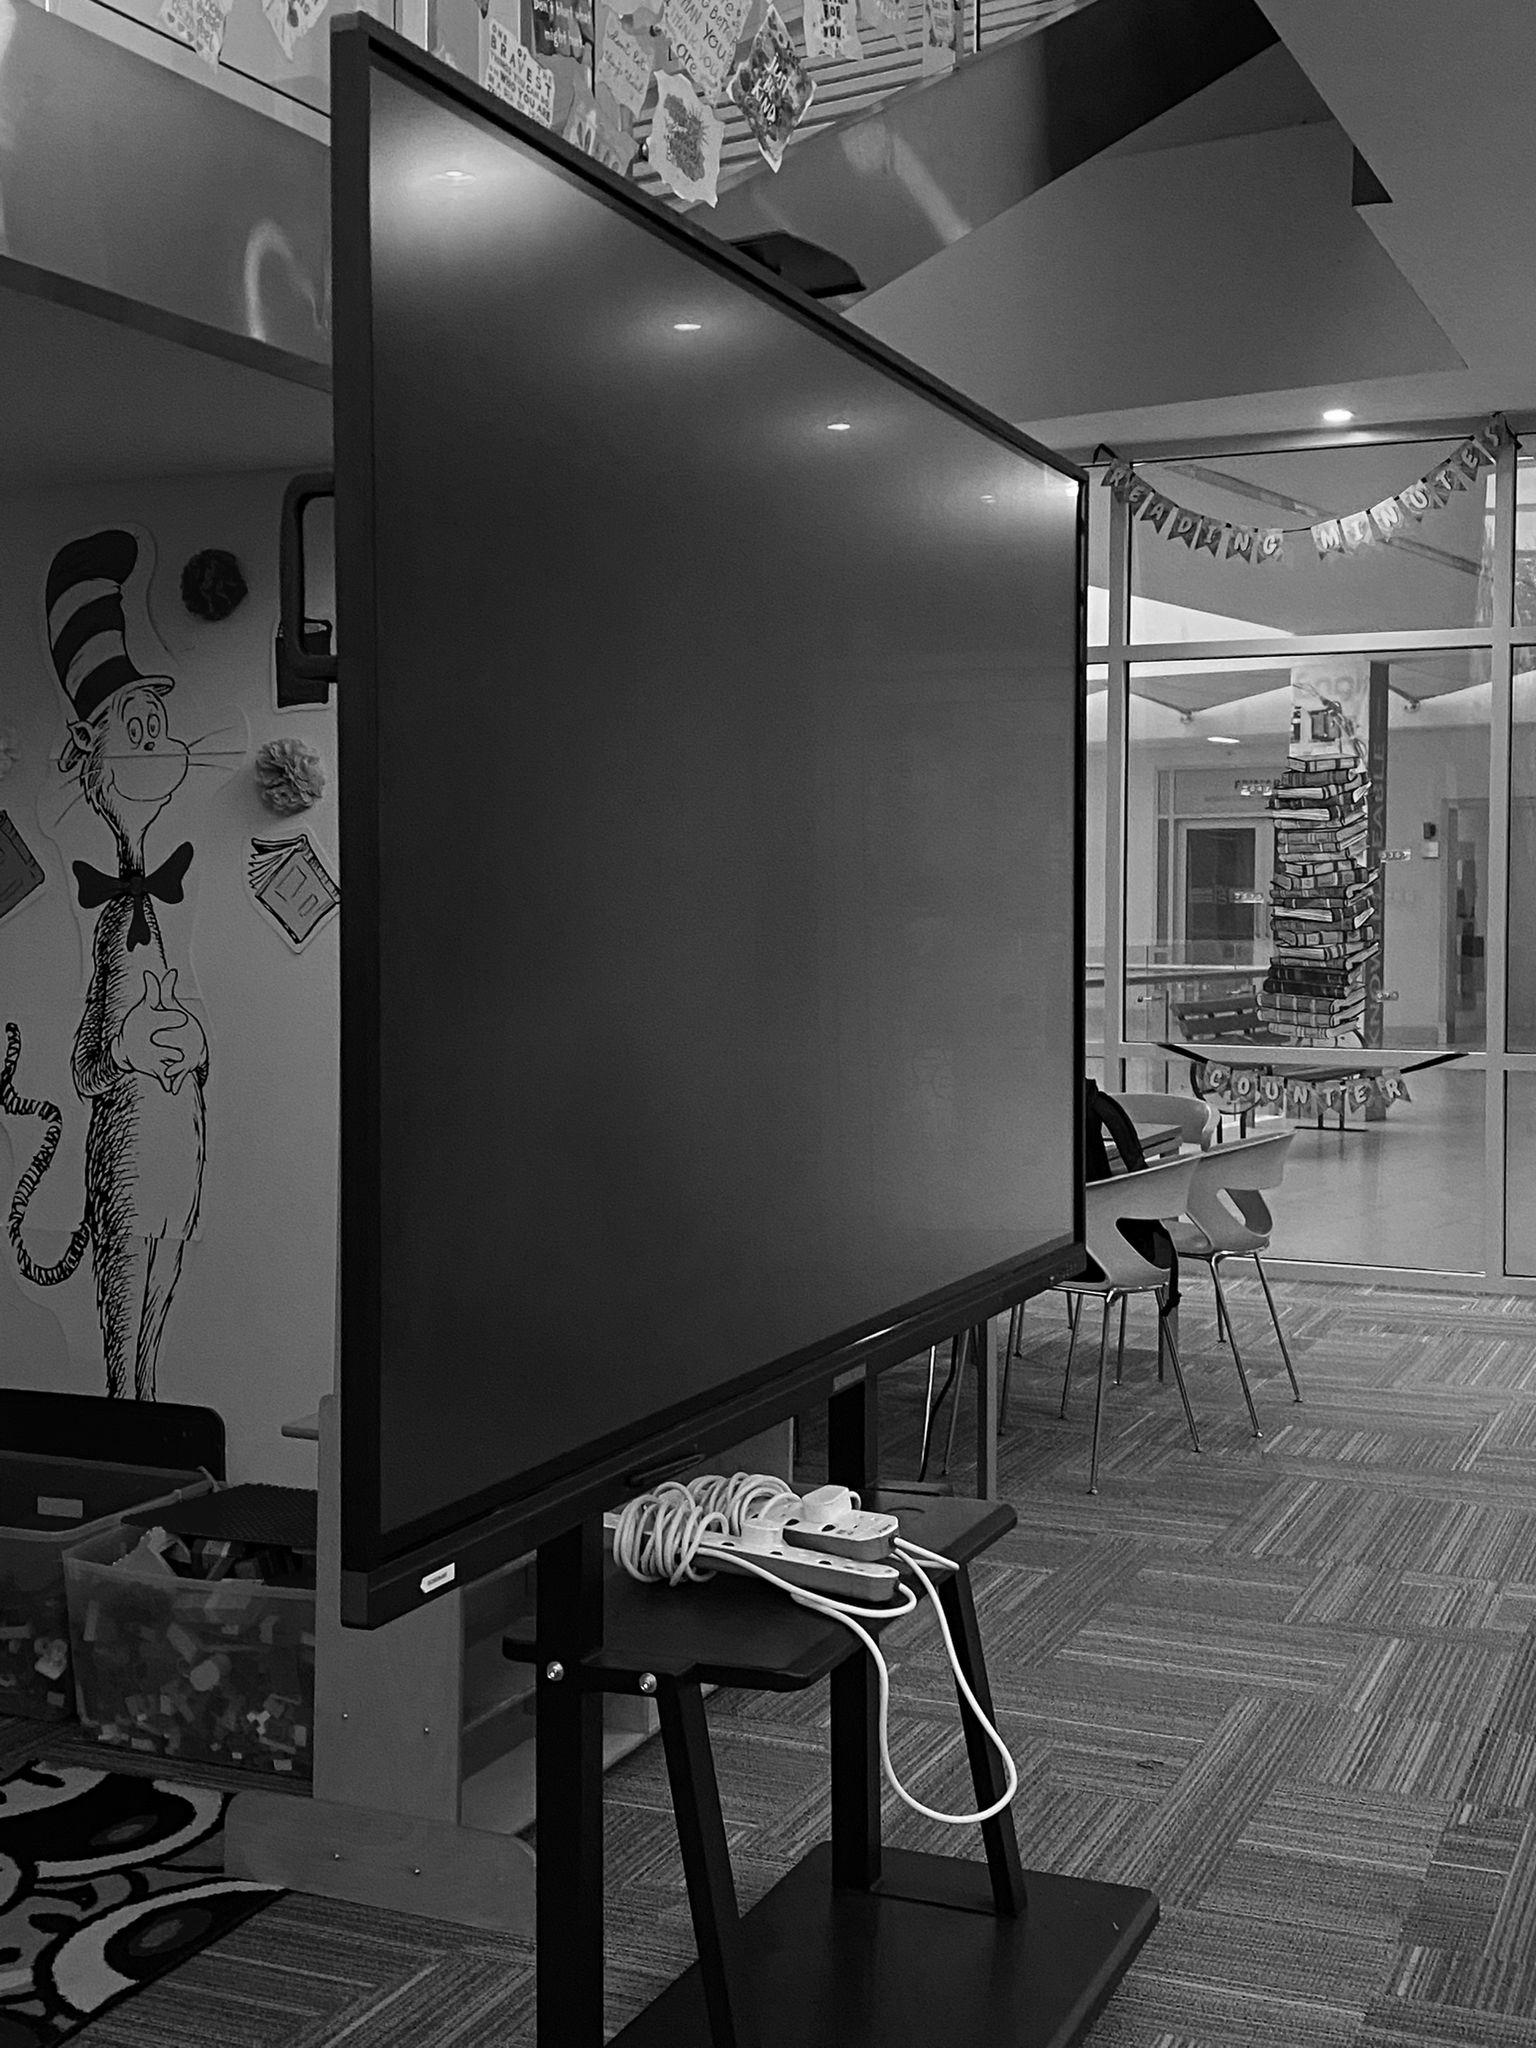Tv: (332, 39, 1083, 1619)
